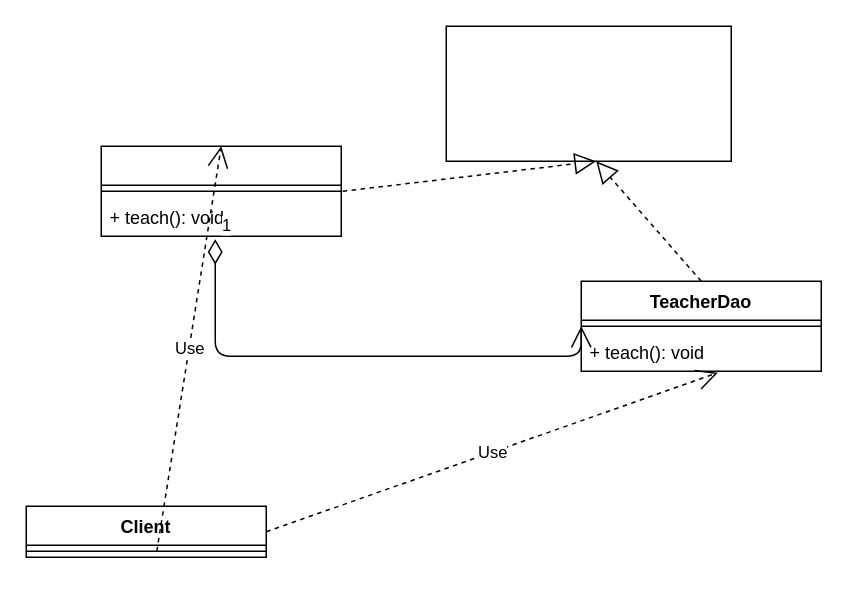
The diagram is 848 pixels wide and 599 high, and some of its shapes have lost their labels. Here are the shapes that lost their labels. From the top down, the box of each, then its label:
(445, 25, 731, 161): <<Interface>> ITeacherDao + teach(): void
(100, 145, 341, 236): TeacherDaoProxy
